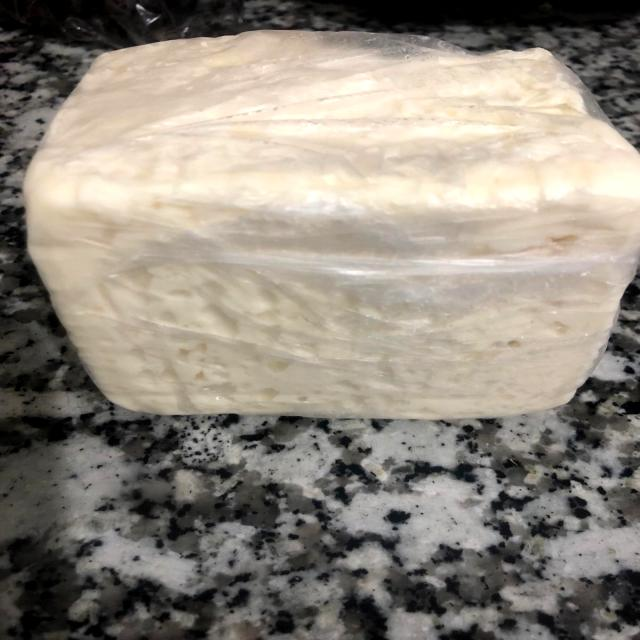cheese: (16, 14, 640, 427)
